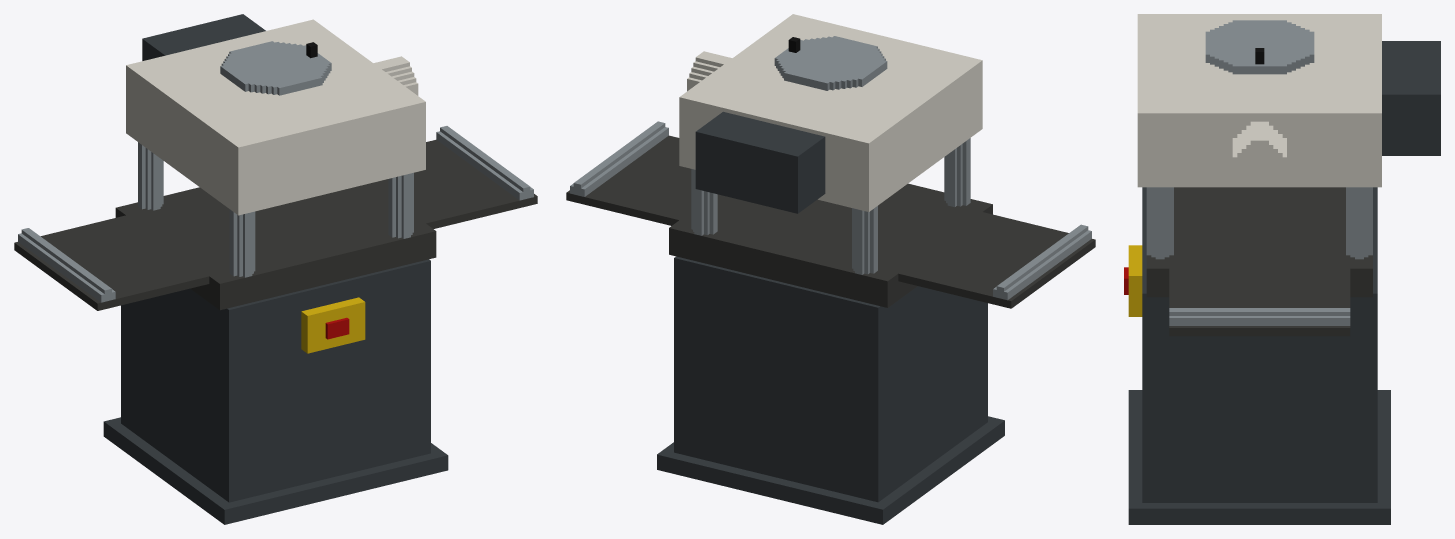
Rendered from planer.glb.
3 views of the same model, side by side, from view 1: azimuth 30°, elevation 25°; view 2: azimuth 150°, elevation 25°; view 3: azimuth 270°, elevation 25° (orthographic). The views are drawn at different scales.
Visible parts, largest first — view 1: planer:compound; view 2: planer:compound; view 3: planer:compound.
Boxes of the visible parts, x1,y1,x2,y2 form: planer:compound: (14,14,537,524); planer:compound: (566,14,1095,524); planer:compound: (1124,14,1440,524).
Bounding box in the file's own units: 1.22 × 1.06 × 0.7.
